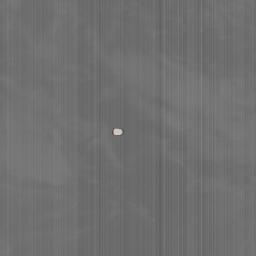Target: (111, 126, 124, 137)
